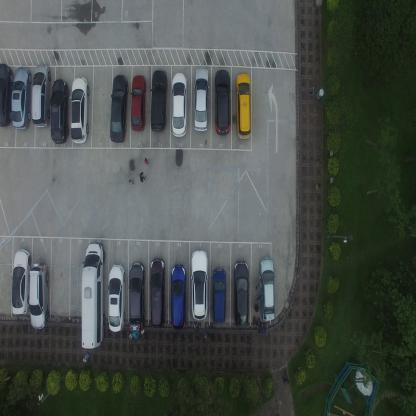car: (80, 240, 106, 350), (28, 260, 49, 330), (11, 248, 31, 316), (110, 72, 129, 143), (50, 78, 70, 145), (128, 260, 146, 334), (108, 262, 126, 334), (70, 76, 89, 144), (11, 66, 31, 130), (31, 63, 50, 128), (191, 249, 208, 321), (149, 257, 166, 328), (214, 68, 231, 137), (235, 71, 252, 140), (150, 69, 168, 132), (258, 256, 275, 322), (233, 260, 250, 326), (170, 263, 186, 331), (193, 66, 209, 133), (171, 72, 187, 137), (130, 74, 146, 132), (0, 62, 13, 128), (211, 268, 226, 324)
